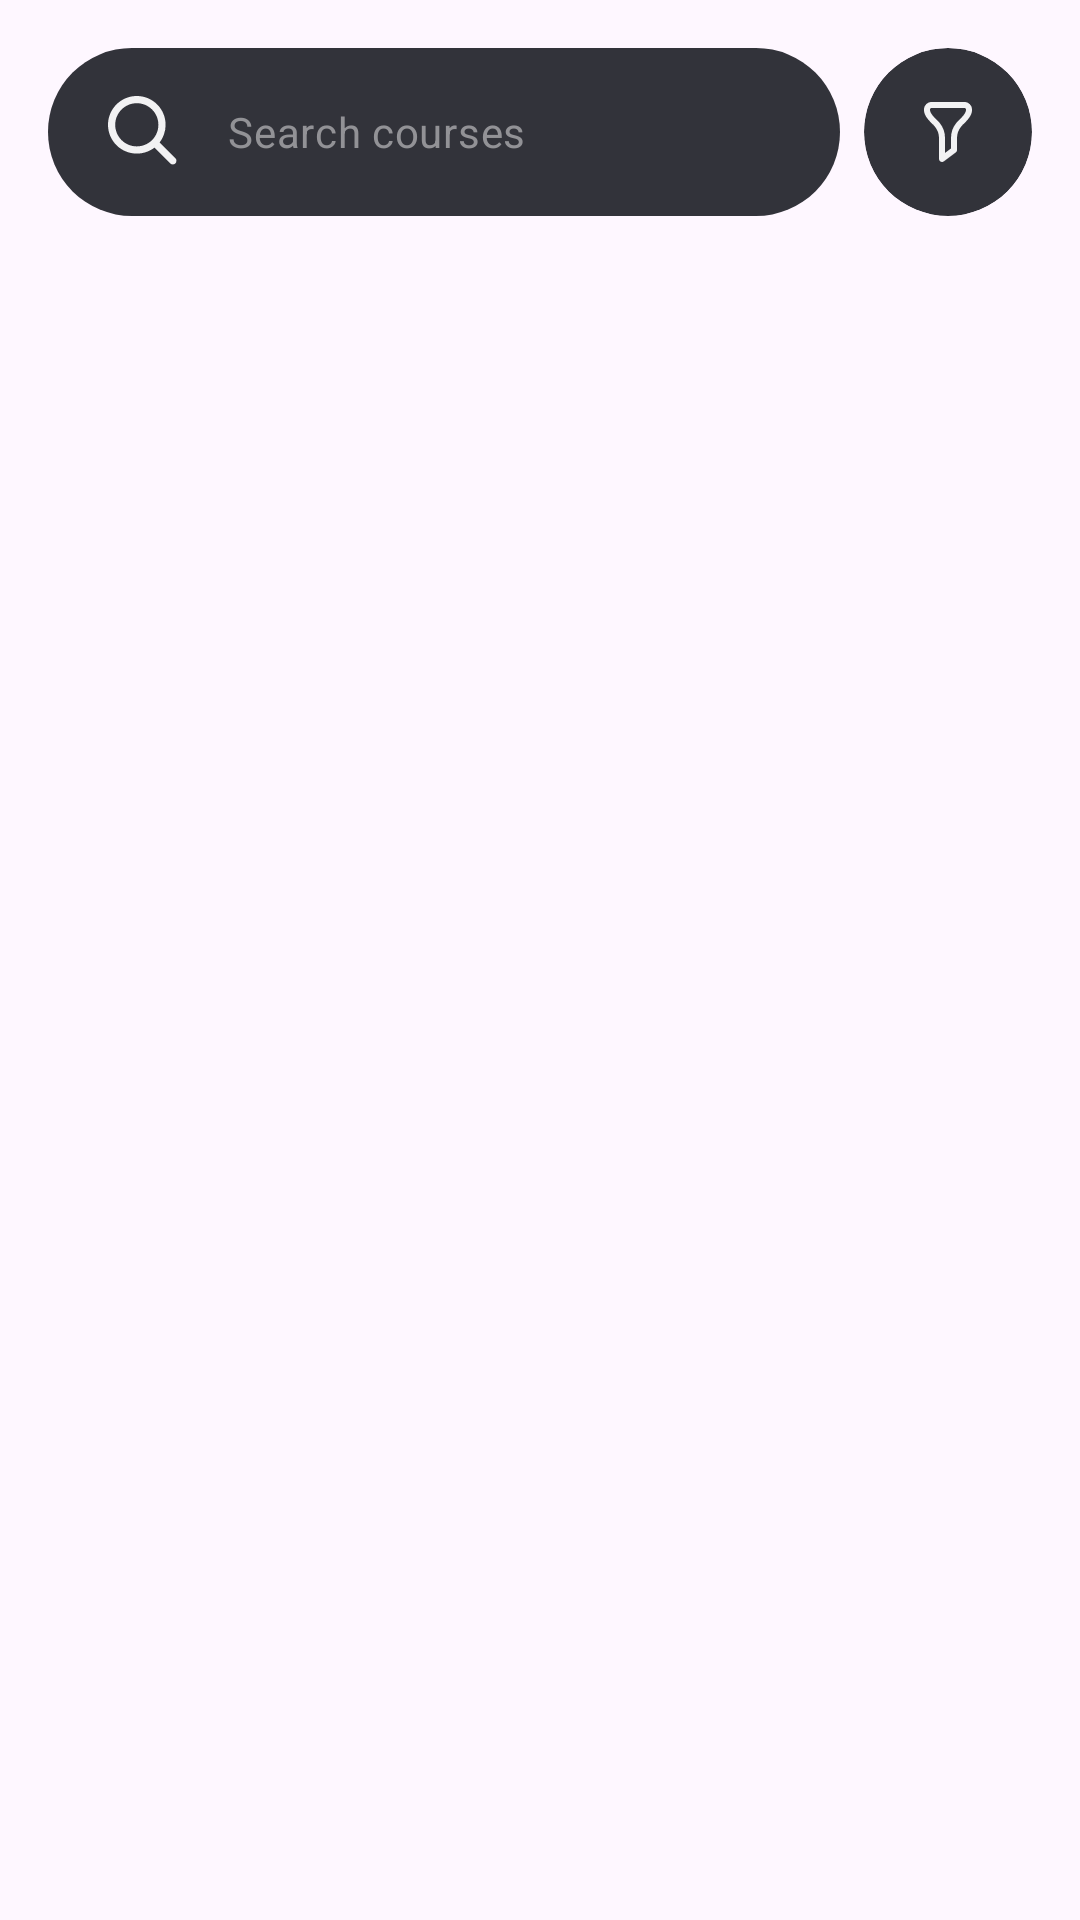

Named icons in this screenshot (1080 × 1920) and their bounding boxes, {"left": x1, "top": y1, "right": x2, "bottom": y2}:
filter: {"left": 924, "top": 102, "right": 972, "bottom": 162}
